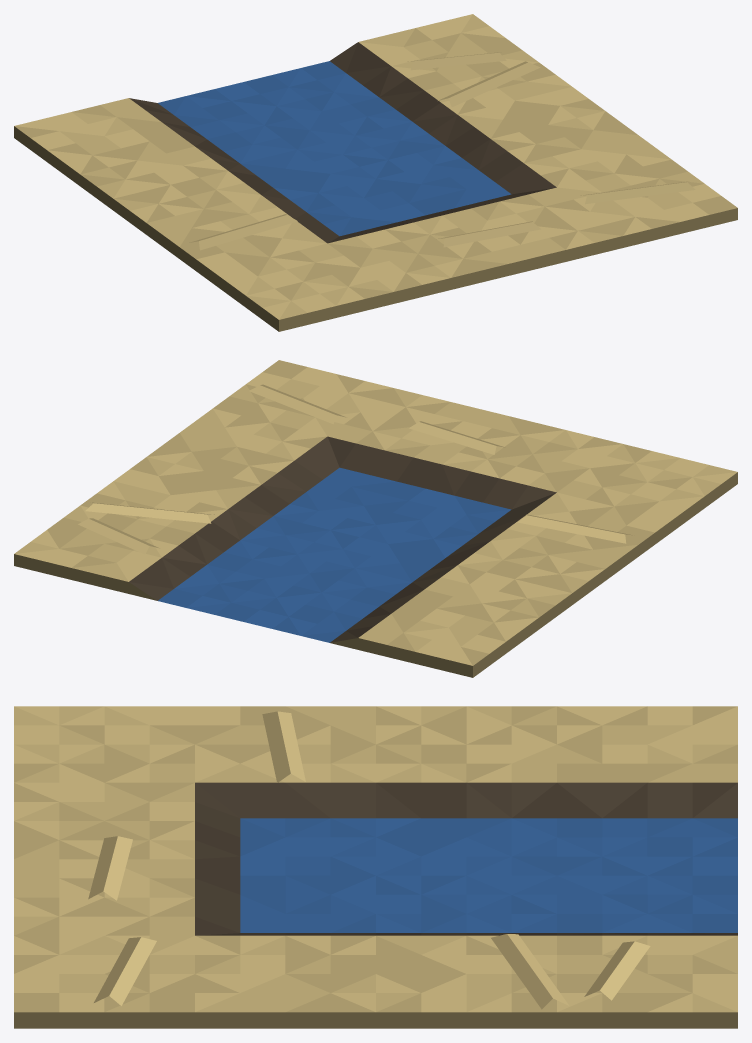
The model's file is river_end_sand.glb.
3 renders of one model, top to bottom at view 1: azimuth 30°, elevation 25°; view 2: azimuth 150°, elevation 25°; view 3: azimuth 270°, elevation 25°, orthographic. The views are drawn at different scales.
Parts seen in each view (by area): view 1: river_end_sand; view 2: river_end_sand; view 3: river_end_sand.
Boxes of the visible parts, x1,y1,x2,y2 form: river_end_sand: (14, 14, 737, 331); river_end_sand: (14, 360, 737, 677); river_end_sand: (14, 706, 737, 1028).
Bounding box in the file's own units: 4 × 0.135 × 4.
